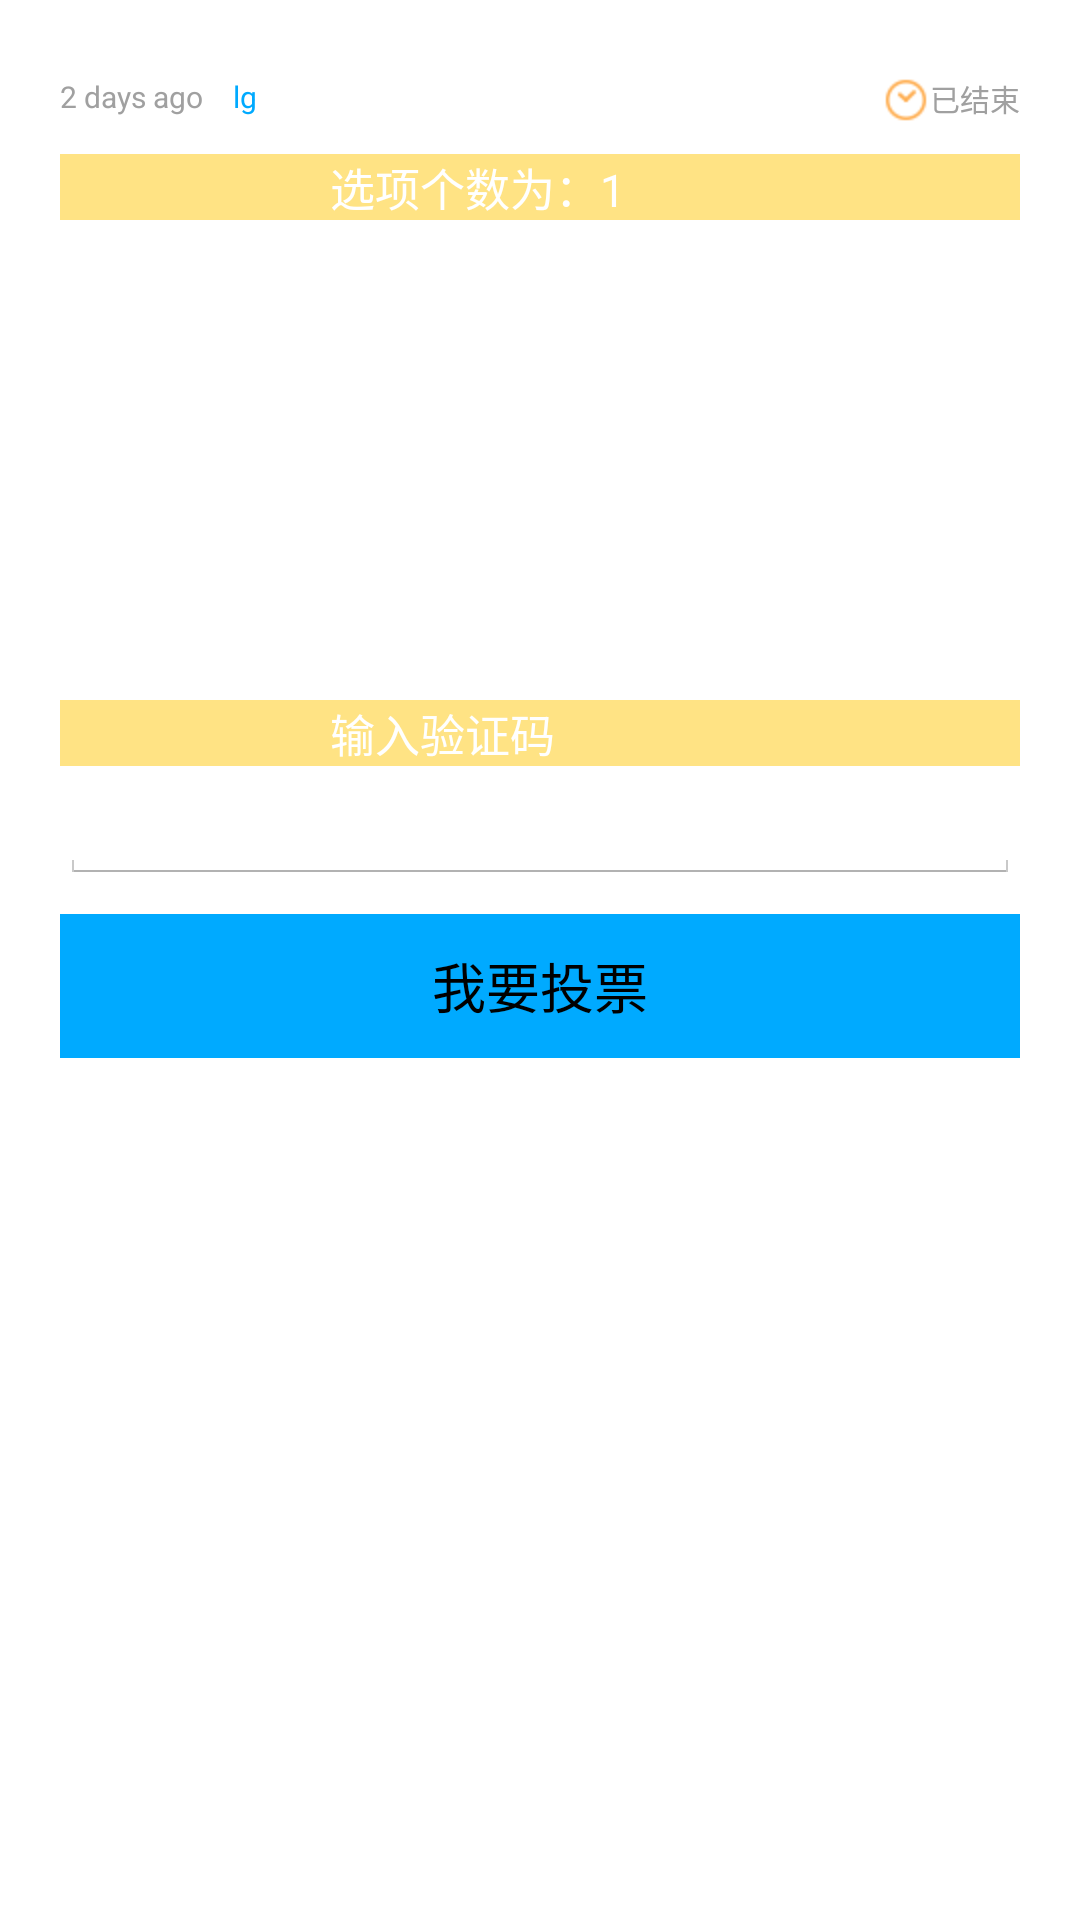

Icons on this 1080 × 1920 Android screen, each with its box as (x1, y1, x2, y2):
watch: (885, 79, 927, 121)
